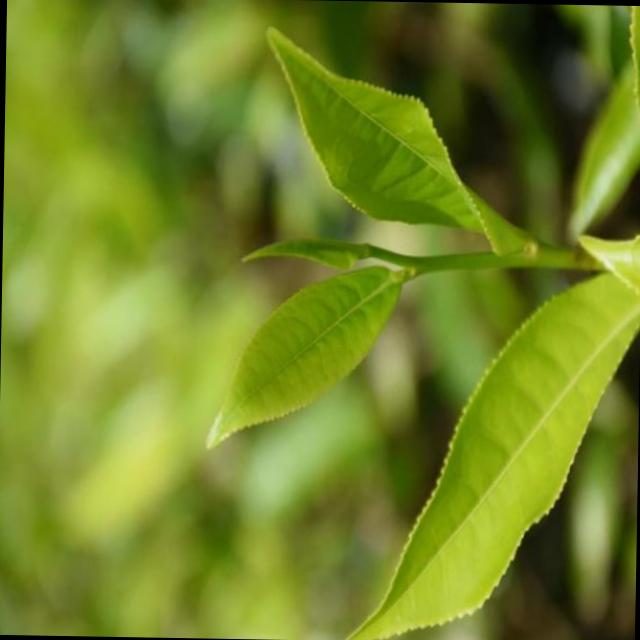Stem: (412, 255, 433, 272)
